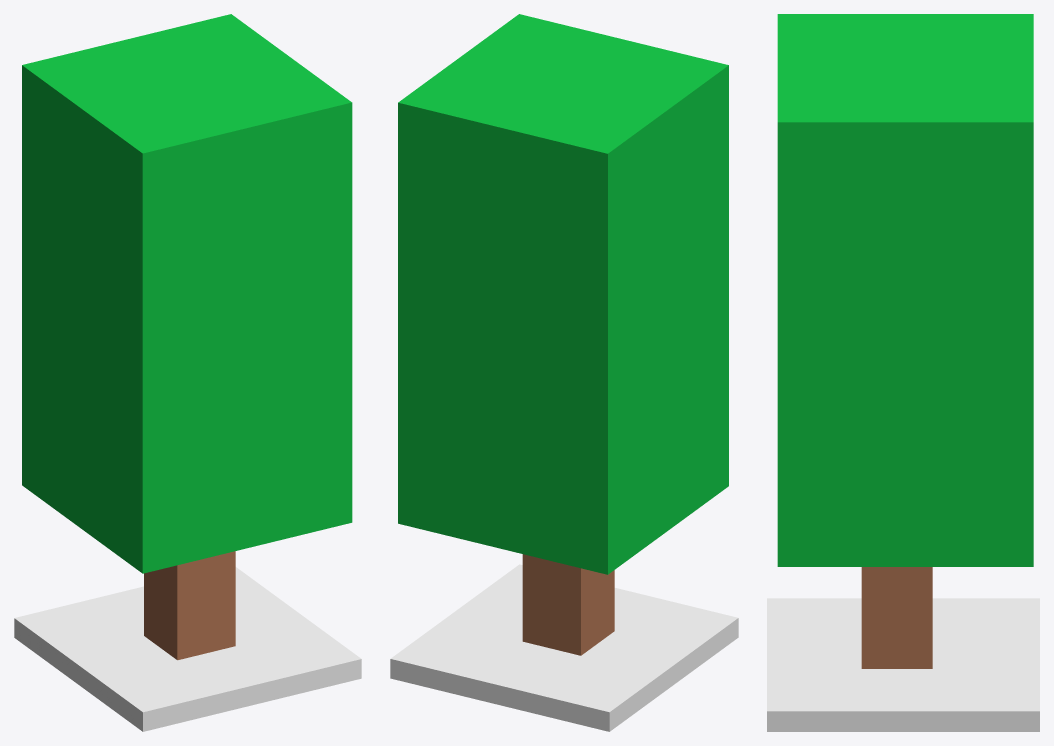
Rendered from baum.glb.
3 renders of one model, left to right at view 1: azimuth 30°, elevation 25°; view 2: azimuth 150°, elevation 25°; view 3: azimuth 270°, elevation 25°, orthographic. The views are drawn at different scales.
Visible parts, largest first — view 1: mesh_id90, mesh_id91, mesh_id92; view 2: mesh_id90, mesh_id91, mesh_id92; view 3: mesh_id90, mesh_id91, mesh_id92.
Boxes of the visible parts, x1,y1,x2,y2 form: mesh_id90: [22, 14, 352, 573]; mesh_id91: [14, 567, 361, 731]; mesh_id92: [144, 551, 235, 660]; mesh_id90: [398, 14, 728, 574]; mesh_id91: [390, 564, 738, 731]; mesh_id92: [522, 554, 614, 655]; mesh_id90: [777, 14, 1033, 566]; mesh_id91: [767, 598, 1039, 731]; mesh_id92: [861, 567, 932, 668].
Size of the model in its own units: 0.1092 by 0.2737 by 0.1114.
3 materials, 3 textured.
